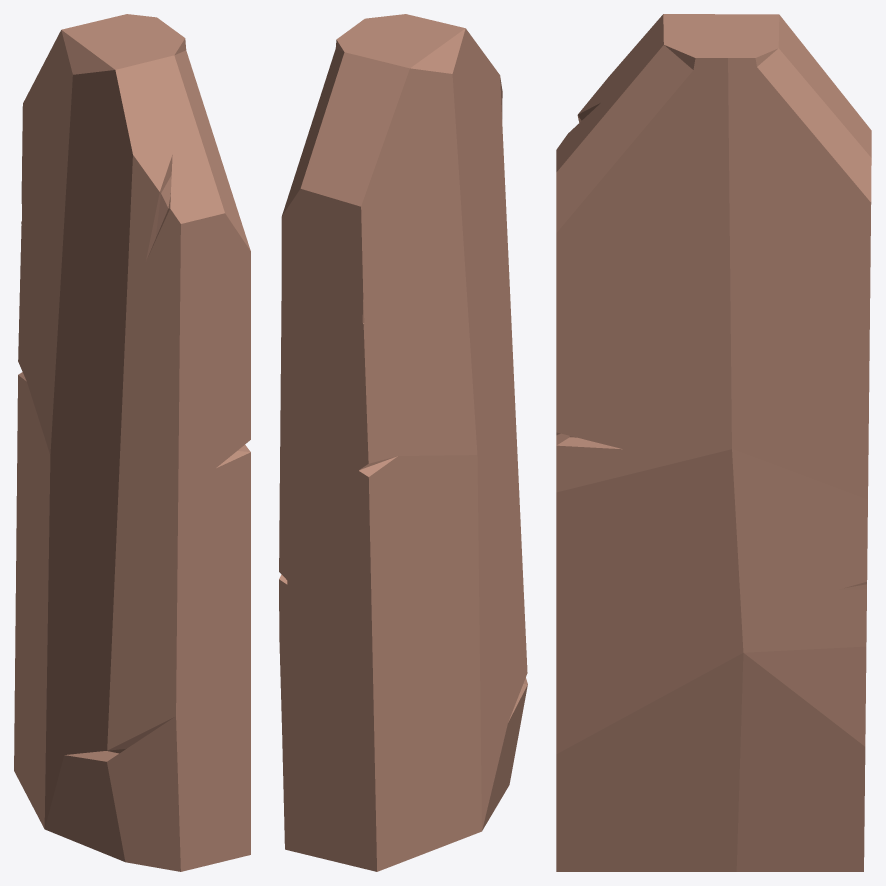
The model's file is Fence 2.fbx.
3 views of the same model, side by side, from view 1: azimuth 30°, elevation 25°; view 2: azimuth 150°, elevation 25°; view 3: azimuth 270°, elevation 25° (orthographic). The views are drawn at different scales.
Parts seen in each view (by area): view 1: Fence 2; view 2: Fence 2; view 3: Fence 2.
Boxes of the visible parts, x1=… form: Fence 2: x1=14, y1=14, x2=250, y2=871; Fence 2: x1=279, y1=14, x2=527, y2=871; Fence 2: x1=556, y1=14, x2=871, y2=871.
Size of the model in its own units: 60.51 by 270 by 94.59.
